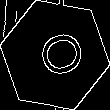O_W: (25, 26, 85, 84)
